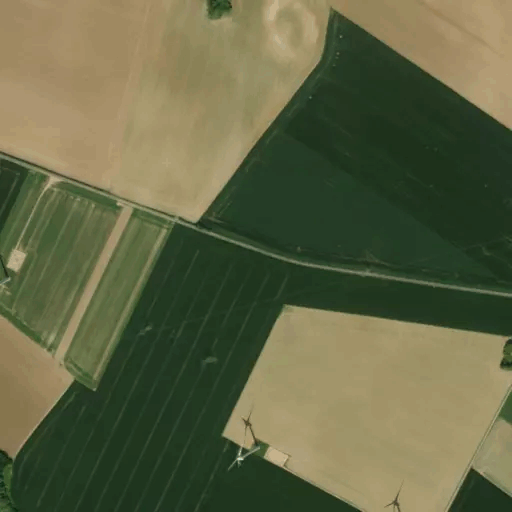wt: (219, 404, 269, 478), (374, 481, 421, 512), (1, 250, 24, 287)
